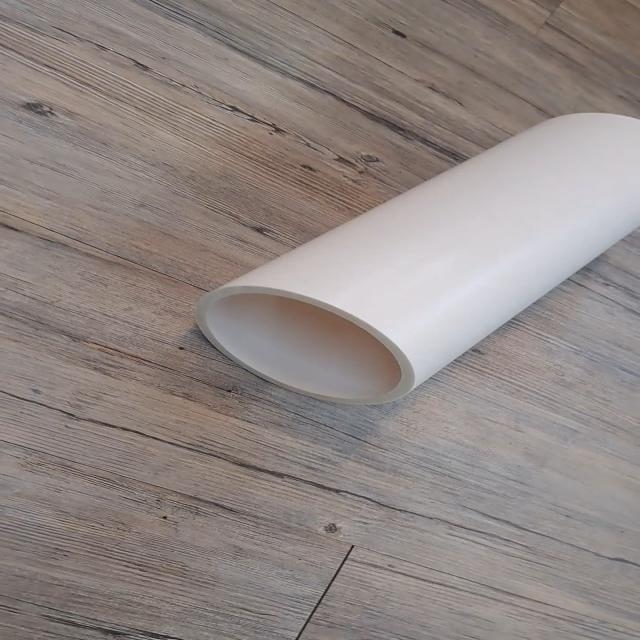CORAL: (184, 95, 640, 407)
